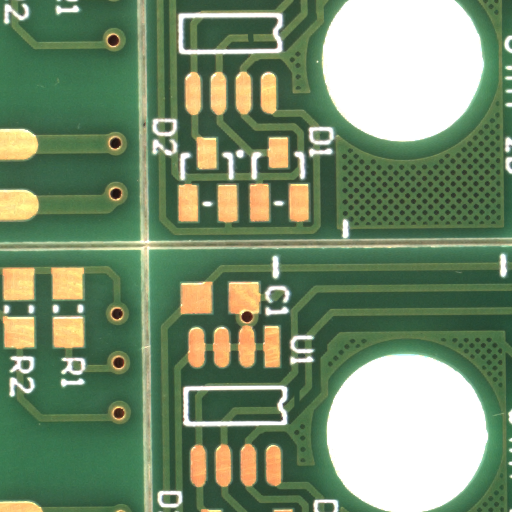Open_circuit: (296, 400, 305, 421), (249, 37, 261, 48)
